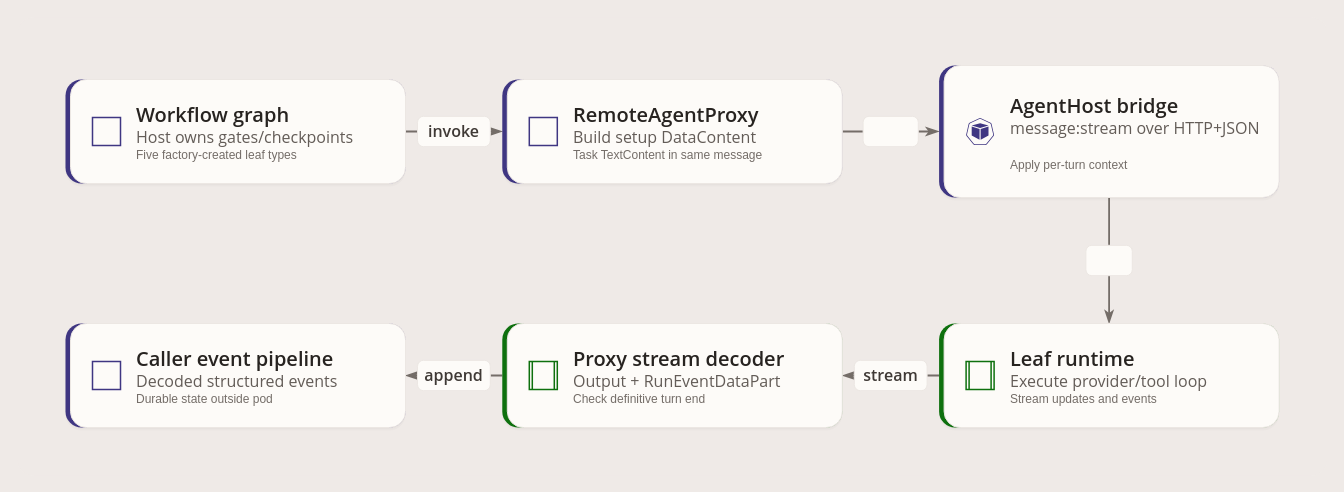
The diagram is 1344 pixels wide and 492 high, and some of its shapes have lost their labels. The shapes that lost their labels are listed below. From the top down, each one's centre as x and y in pixels, then its label:
At (890,131): "send".
At (1108,260): "run".
